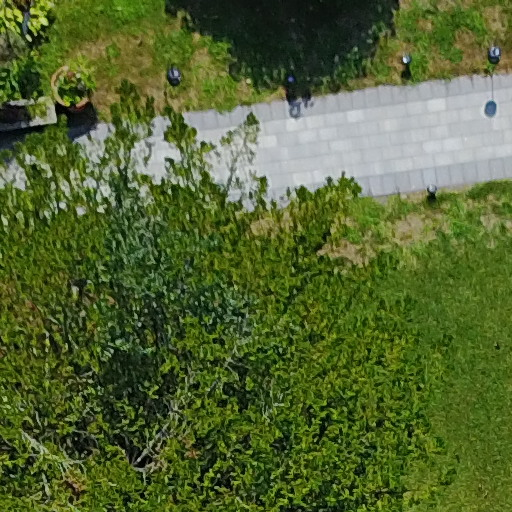flower pot: (42, 54, 94, 118)
